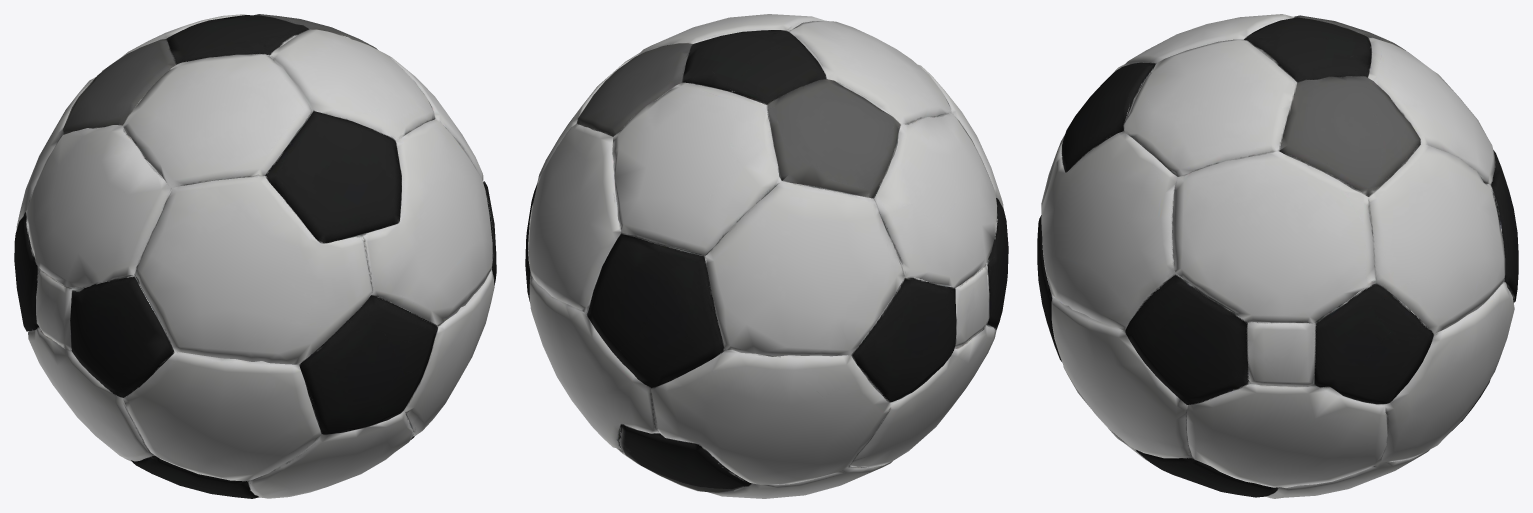
File: football.glb
3 renders of one model, left to right at view 1: azimuth 30°, elevation 25°; view 2: azimuth 150°, elevation 25°; view 3: azimuth 270°, elevation 25°, orthographic.
Parts seen in each view (by area): view 1: Candy Gloss Matchball; view 2: Candy Gloss Matchball; view 3: Candy Gloss Matchball.
Boxes of the visible parts, x1=… form: Candy Gloss Matchball: x1=14, y1=14, x2=496, y2=498; Candy Gloss Matchball: x1=525, y1=14, x2=1008, y2=498; Candy Gloss Matchball: x1=1037, y1=14, x2=1518, y2=498.
Bounding box in the file's own units: 0.998 × 0.998 × 0.998.
Materials: 1 (1 with a texture image).
